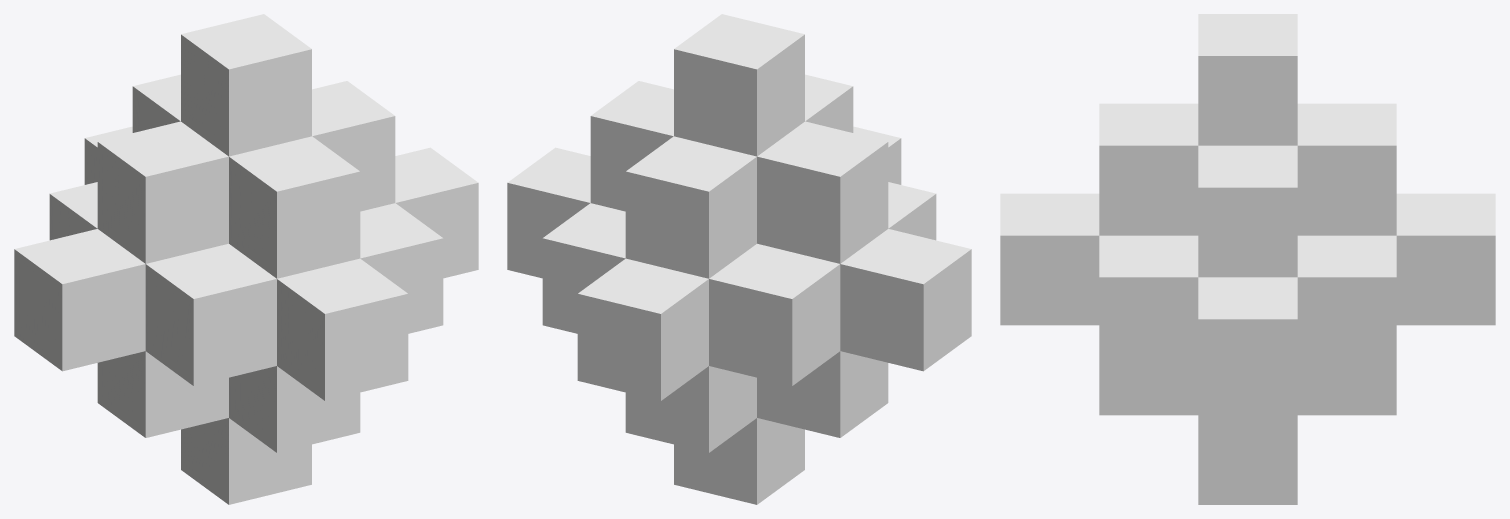
Rendered from cloud-lg.glb.
The picture shows the model from 3 angles, left to right: view 1: azimuth 30°, elevation 25°; view 2: azimuth 150°, elevation 25°; view 3: azimuth 270°, elevation 25°; orthographic projection. The views are drawn at different scales.
Visible parts, largest first — view 1: cloud-lg; view 2: cloud-lg; view 3: cloud-lg.
Boxes of the visible parts, box(x1,y1,x2,y2) form: cloud-lg: box(14, 14, 478, 504); cloud-lg: box(507, 14, 971, 504); cloud-lg: box(1000, 14, 1495, 504).
Size of the model in its own units: 0.5 by 0.5 by 0.5.
1 material, 1 textured.
